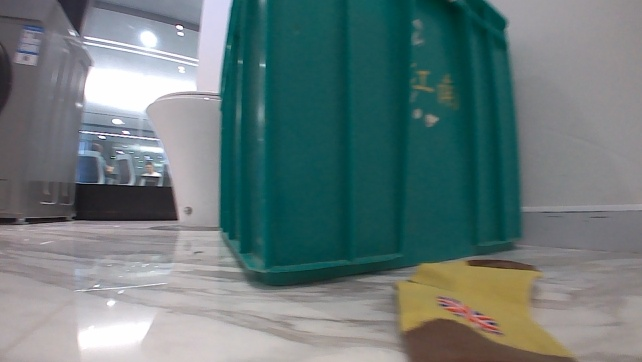socks: (388, 255, 576, 361)
toilet: (140, 87, 222, 227)
washing_machine1: (0, 0, 94, 226)
